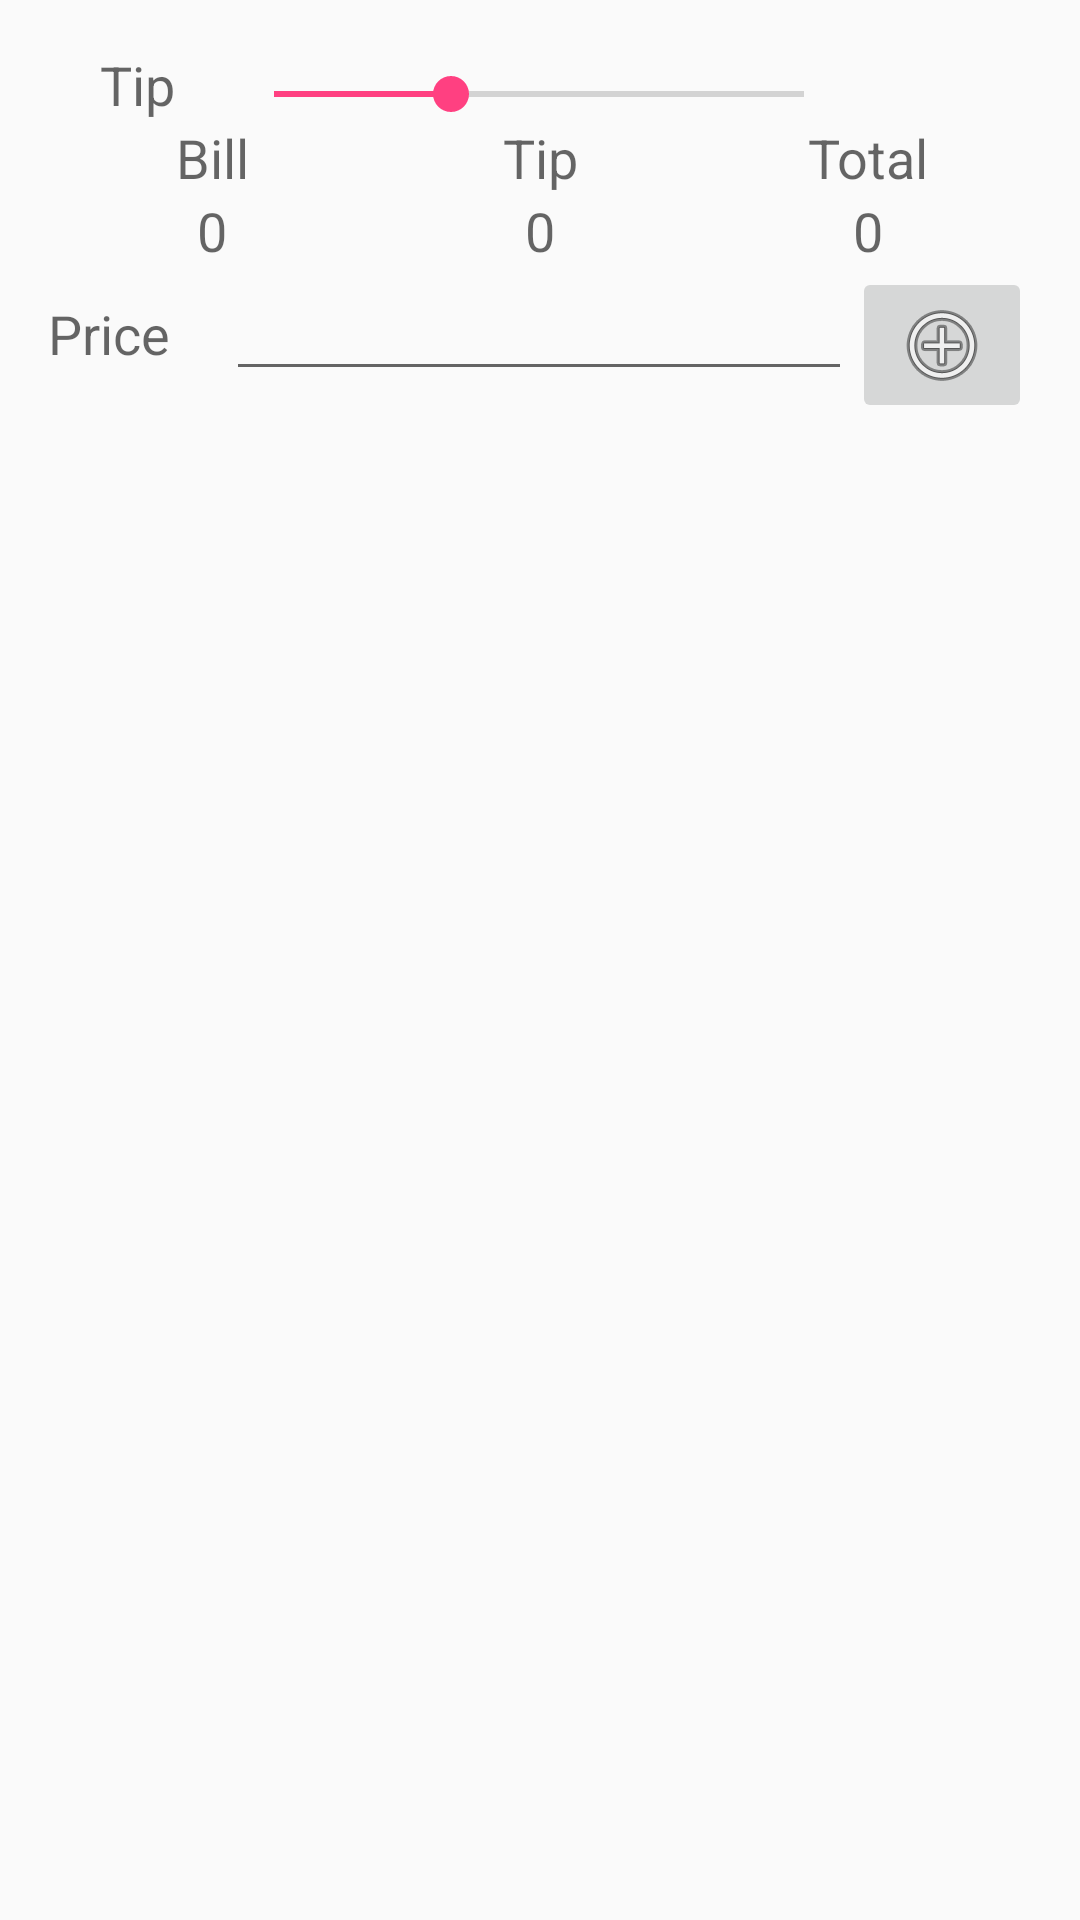

Named icons in this screenshot (1080w x 1920h) and their centers, point (x, y):
add: point (942, 345)
